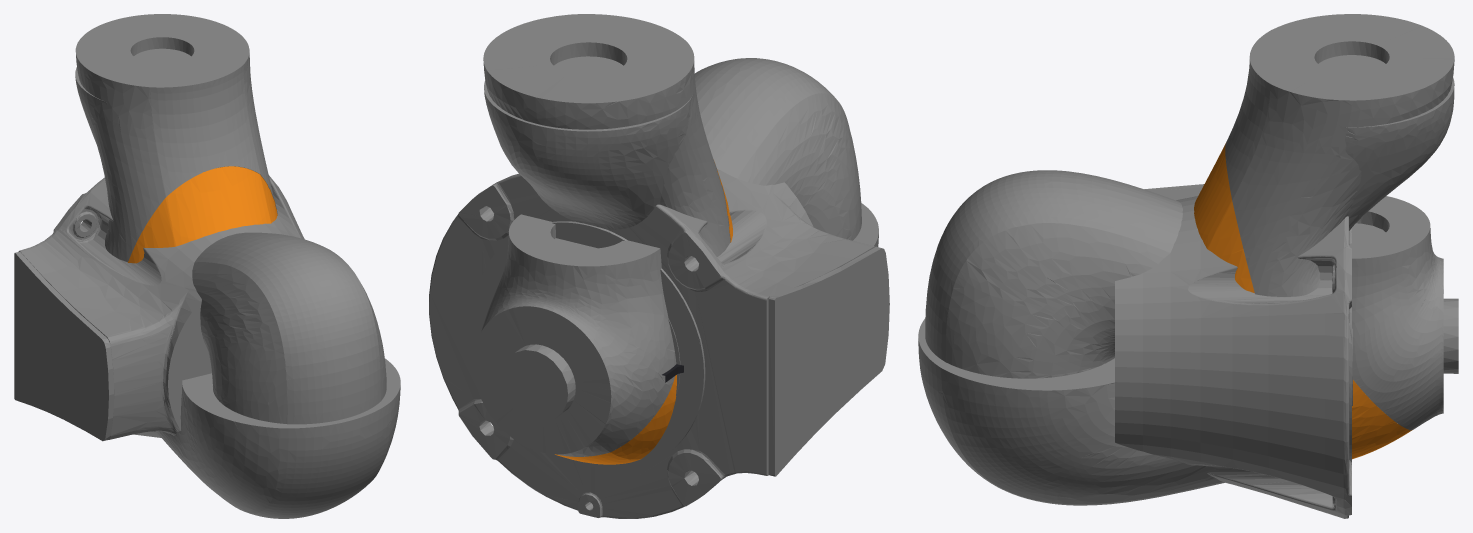
File: arm.glb
3 renders of one model, left to right at view 1: azimuth 30°, elevation 25°; view 2: azimuth 150°, elevation 25°; view 3: azimuth 270°, elevation 25°, orthographic. The views are drawn at different scales.
Visible parts, largest first — view 1: b3, b1, b4, b2, b5; view 2: b1, b7, b3, b4, b5, b2; view 3: b1, b3, b4, b2, b7, b5.
Part boxes in pixels (box(x1,y1,x2,y2)): b3: box(75, 14, 277, 263); b1: box(14, 175, 304, 441); b4: box(192, 232, 386, 424); b2: box(155, 358, 400, 518); b5: box(75, 67, 107, 143); b1: box(429, 169, 889, 518); b7: box(473, 214, 676, 464); b3: box(474, 14, 732, 469); b4: box(695, 58, 861, 240); b5: box(484, 80, 693, 395); b2: box(474, 203, 878, 469); b1: box(1115, 184, 1351, 518); b3: box(1194, 14, 1454, 462); b4: box(925, 170, 1182, 378); b2: box(918, 318, 1224, 505); b7: box(1349, 196, 1458, 459); b5: box(1345, 77, 1454, 405).
Bounding box in the file's own units: 0.2573 × 0.3259 × 0.3587.
